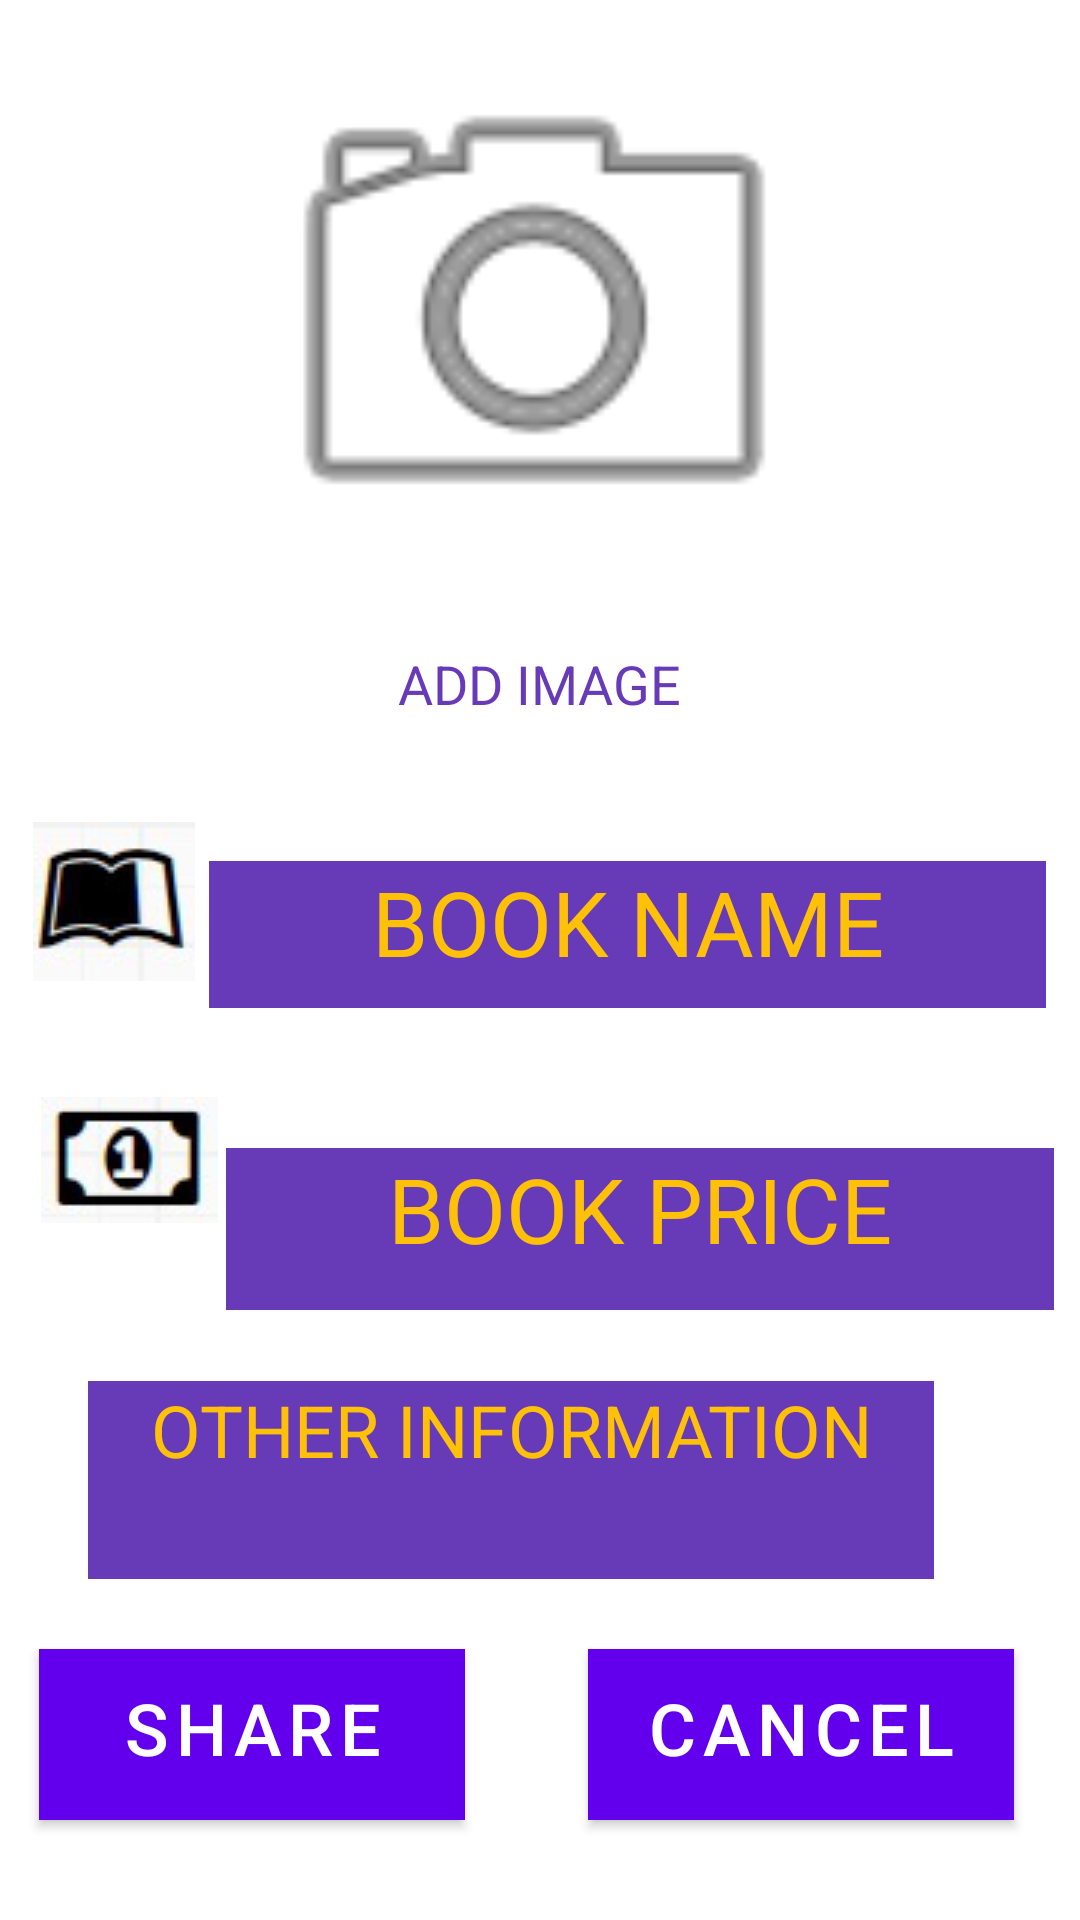

Point at icon controls on the screen. Image size 1080w x 1920h, points as [x,y].
money: [128,1157]
